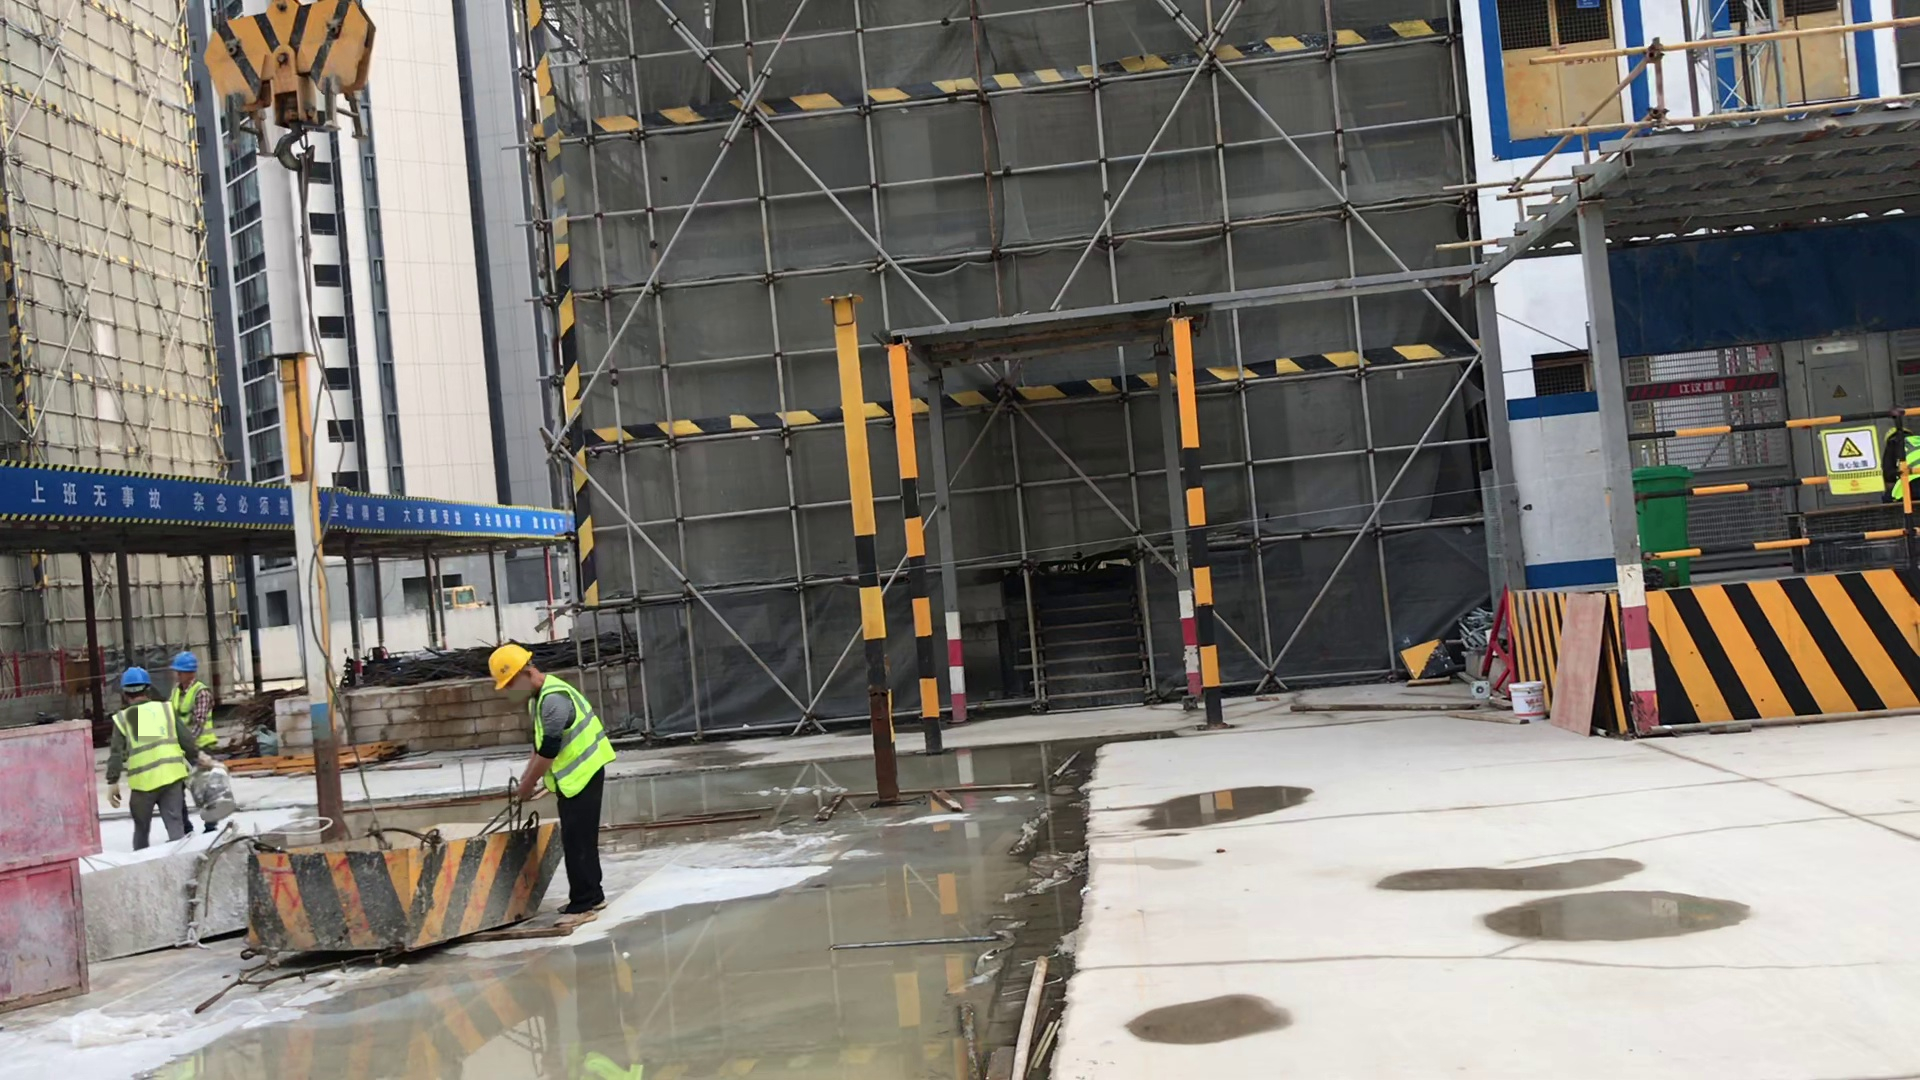fence: (1632, 400, 1912, 561)
helmet: (481, 632, 536, 691), (108, 653, 158, 695), (169, 643, 201, 674)
hook: (200, 1, 375, 179)
hopper: (218, 832, 529, 957), (75, 824, 252, 965)
person: (464, 643, 623, 923), (82, 660, 200, 861), (154, 632, 215, 849)
slogan: (1, 468, 581, 553), (1795, 408, 1891, 505)
vest: (515, 700, 618, 791), (106, 717, 186, 793), (170, 690, 199, 743)
